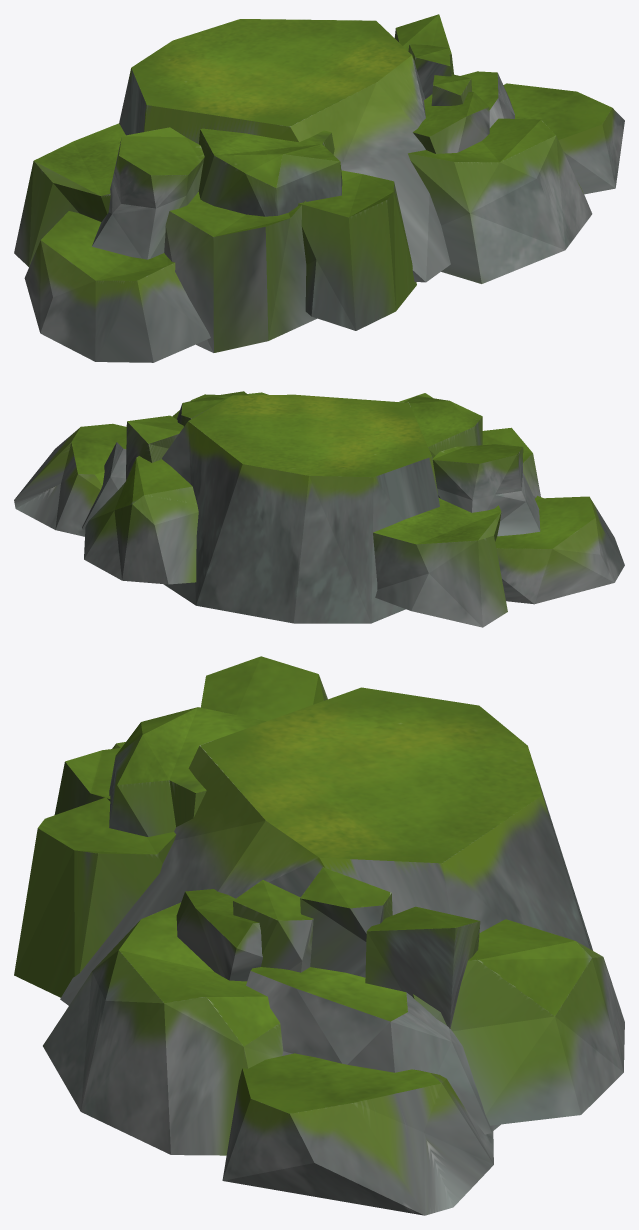
The model's file is Hill.fbx.
The picture shows the model from 3 angles, top to bottom: view 1: azimuth 30°, elevation 25°; view 2: azimuth 150°, elevation 25°; view 3: azimuth 270°, elevation 25°; orthographic projection. The views are drawn at different scales.
Visible parts, largest first — view 1: Hill_Plateau, HillPiece.056, HillPiece.059, HillPiece.054, HillPiece.057, HillPiece.047, HillPiece.049, HillPiece.046, HillPiece.058, HillPiece.053, HillPiece.055, HillPiece.051 (+2 smaller); view 2: Hill_Plateau, HillPiece.046, HillPiece.048, HillPiece.059, HillPiece.058, HillPiece.049, HillPiece.047, HillPiece.052, HillPiece.055, HillPiece.054, HillPiece.051; view 3: Hill_Plateau, HillPiece.056, HillPiece.058, HillPiece.048, HillPiece.057, HillPiece.055, HillPiece.047, HillPiece.052, HillPiece.051, HillPiece.049, HillPiece.053, HillPiece.050 (+1 smaller).
Boxes of the visible parts, bbox=[...] form: Hill_Plateau: bbox=[119, 19, 450, 282]; HillPiece.056: bbox=[408, 118, 592, 283]; HillPiece.059: bbox=[24, 211, 210, 362]; HillPiece.054: bbox=[164, 192, 316, 352]; HillPiece.057: bbox=[298, 170, 416, 330]; HillPiece.047: bbox=[198, 128, 342, 216]; HillPiece.049: bbox=[92, 127, 204, 259]; HillPiece.046: bbox=[14, 123, 125, 266]; HillPiece.058: bbox=[503, 83, 624, 194]; HillPiece.053: bbox=[413, 91, 489, 153]; HillPiece.055: bbox=[461, 71, 514, 127]; HillPiece.051: bbox=[408, 44, 451, 98]; Hill_Plateau: bbox=[162, 394, 439, 623]; HillPiece.046: bbox=[373, 498, 507, 627]; HillPiece.048: bbox=[84, 456, 198, 584]; HillPiece.059: bbox=[495, 495, 624, 604]; HillPiece.058: bbox=[14, 423, 126, 536]; HillPiece.049: bbox=[432, 444, 540, 536]; HillPiece.047: bbox=[404, 395, 482, 458]; HillPiece.052: bbox=[126, 415, 183, 479]; HillPiece.055: bbox=[82, 438, 126, 529]; HillPiece.054: bbox=[482, 427, 540, 498]; HillPiece.051: bbox=[177, 396, 226, 426]; Hill_Plateau: bbox=[60, 687, 592, 1130]; HillPiece.056: bbox=[43, 902, 283, 1155]; HillPiece.058: bbox=[222, 1053, 493, 1215]; HillPiece.048: bbox=[412, 919, 624, 1125]; HillPiece.057: bbox=[14, 796, 176, 997]; HillPiece.055: bbox=[246, 967, 494, 1134]; HillPiece.047: bbox=[109, 707, 265, 836]; HillPiece.052: bbox=[365, 906, 480, 1028]; HillPiece.051: bbox=[300, 867, 392, 977]; HillPiece.049: bbox=[200, 656, 327, 721]; HillPiece.053: bbox=[176, 889, 262, 981]; HillPiece.050: bbox=[233, 880, 313, 972].
Size of the model in its own units: 44.93 by 11.21 by 27.01.
1 material, 1 textured.
